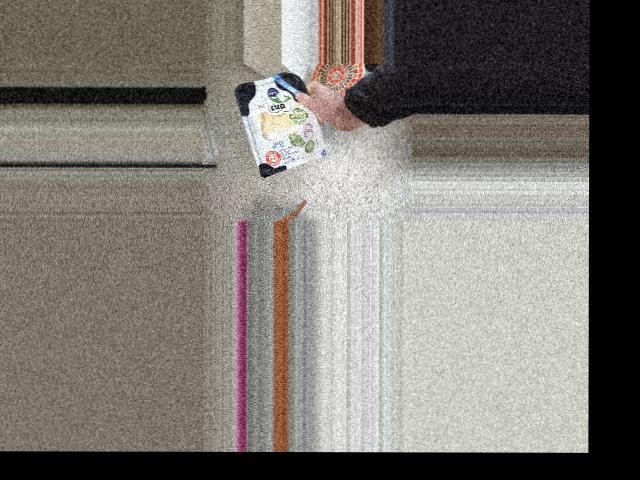cheese: (233, 71, 325, 177)
